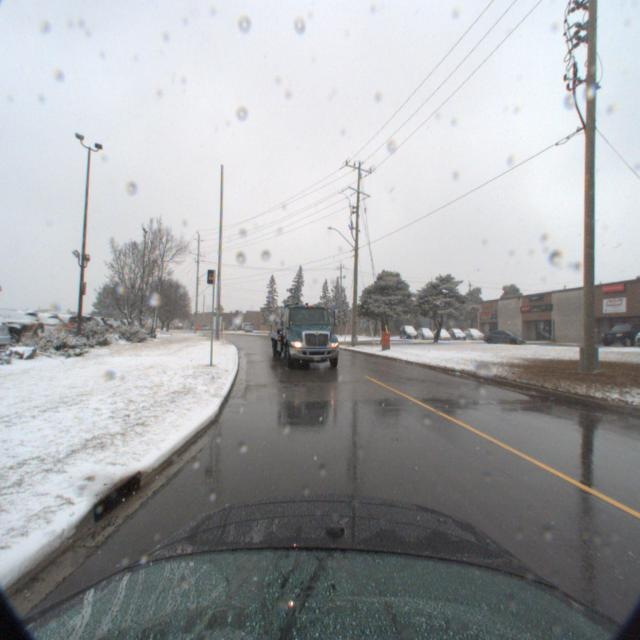Car: (482, 324, 531, 344), (463, 324, 487, 338), (398, 320, 418, 336)
Truck: (260, 286, 347, 372)
